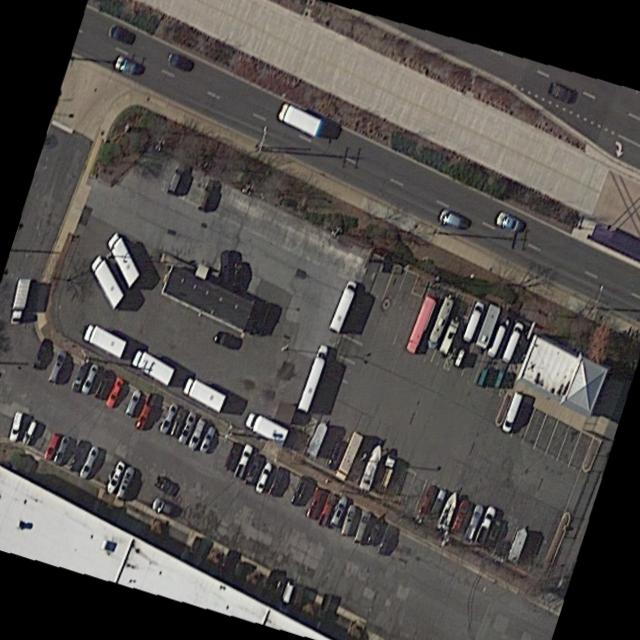large-vehicle: (297, 344, 329, 412), (108, 229, 141, 287), (91, 255, 125, 309), (277, 100, 324, 138), (130, 347, 175, 385), (244, 409, 289, 447), (83, 321, 128, 357), (183, 375, 226, 412), (10, 278, 31, 324)
ship: (357, 441, 385, 492), (436, 488, 461, 532)
small-vehicle: (405, 292, 438, 356), (327, 273, 360, 336), (426, 294, 455, 350), (333, 430, 364, 482), (499, 388, 525, 436), (485, 314, 510, 358), (501, 320, 525, 365), (438, 310, 462, 355), (461, 298, 486, 341), (474, 503, 497, 546), (483, 511, 505, 555), (494, 206, 524, 237), (166, 156, 188, 198), (415, 482, 438, 522), (426, 485, 449, 525), (544, 76, 574, 106), (135, 390, 158, 429), (436, 203, 464, 234), (115, 463, 137, 502), (463, 503, 486, 539), (104, 374, 127, 410), (233, 441, 254, 479), (47, 347, 68, 385), (105, 458, 126, 496), (328, 492, 349, 529), (70, 356, 91, 393), (317, 490, 337, 528), (450, 496, 470, 534), (254, 460, 275, 496), (187, 415, 208, 451), (78, 445, 100, 479), (289, 473, 309, 510), (81, 359, 101, 396), (177, 410, 198, 445), (107, 19, 134, 46), (111, 51, 137, 78), (69, 436, 89, 471), (168, 404, 188, 438), (159, 400, 179, 433), (354, 509, 373, 542), (31, 337, 50, 370), (198, 176, 216, 210), (341, 503, 358, 538), (307, 485, 325, 518), (20, 416, 39, 446), (53, 435, 72, 465), (43, 431, 61, 462), (124, 387, 142, 418), (149, 496, 173, 519), (230, 259, 246, 293), (245, 454, 263, 484), (6, 411, 24, 441), (214, 326, 237, 348), (153, 473, 175, 496), (200, 423, 216, 454), (166, 49, 188, 71), (220, 247, 230, 285)
